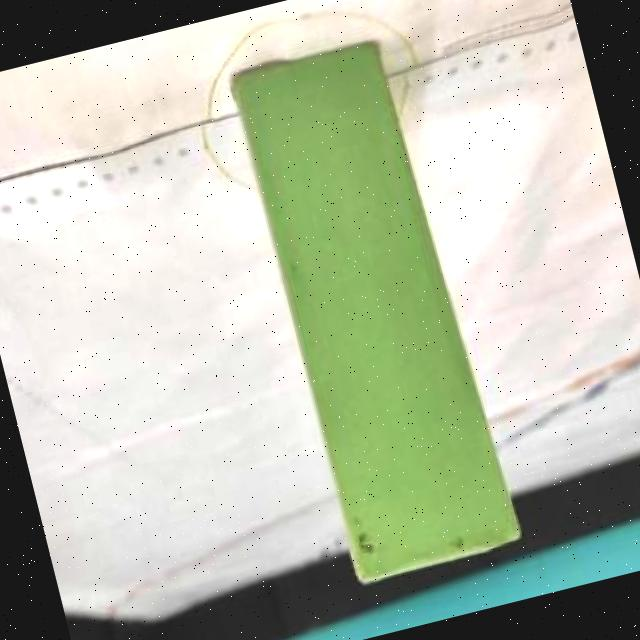greenbox: (225, 30, 510, 588)
